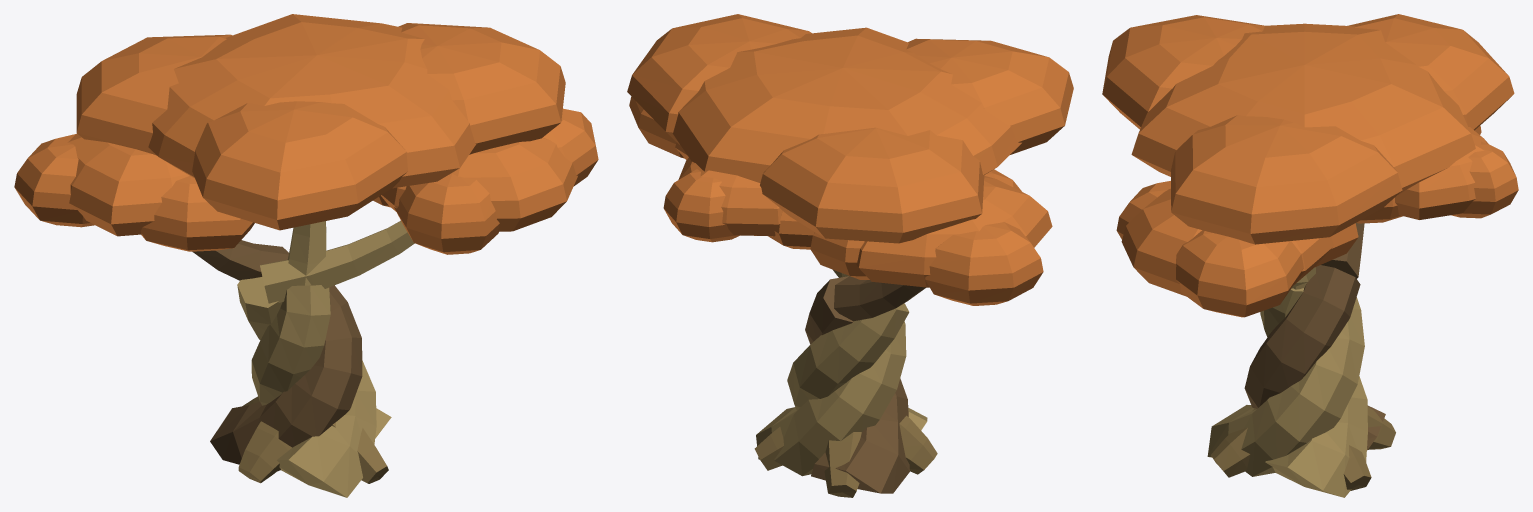
File: tree_gauranlen_b.obj
3 renders of one model, left to right at view 1: azimuth 30°, elevation 25°; view 2: azimuth 150°, elevation 25°; view 3: azimuth 270°, elevation 25°, orthographic. The views are drawn at different scales.
Visible parts, largest first — view 1: tree_gauranlen_b_16, tree_gauranlen_b_19, tree_gauranlen_b_17, tree_gauranlen_b_18, tree_gauranlen_b_1, tree_gauranlen_b_20, tree_gauranlen_b_24, tree_gauranlen_b_2, tree_gauranlen_b_0, tree_gauranlen_b_26, tree_gauranlen_b_23, tree_gauranlen_b_13 (+6 smaller); view 2: tree_gauranlen_b_16, tree_gauranlen_b_18, tree_gauranlen_b_19, tree_gauranlen_b_17, tree_gauranlen_b_0, tree_gauranlen_b_22, tree_gauranlen_b_20, tree_gauranlen_b_2, tree_gauranlen_b_1, tree_gauranlen_b_29, tree_gauranlen_b_28, tree_gauranlen_b_10 (+6 smaller); view 3: tree_gauranlen_b_16, tree_gauranlen_b_17, tree_gauranlen_b_2, tree_gauranlen_b_19, tree_gauranlen_b_27, tree_gauranlen_b_1, tree_gauranlen_b_18, tree_gauranlen_b_0, tree_gauranlen_b_24, tree_gauranlen_b_28, tree_gauranlen_b_29, tree_gauranlen_b_6 (+6 smaller).
Boxes of the visible parts, x1,y1,x2,y2 form: tree_gauranlen_b_16: [148, 14, 476, 188]; tree_gauranlen_b_19: [192, 101, 407, 230]; tree_gauranlen_b_17: [398, 23, 565, 154]; tree_gauranlen_b_18: [76, 34, 232, 155]; tree_gauranlen_b_1: [210, 285, 362, 471]; tree_gauranlen_b_20: [67, 134, 189, 236]; tree_gauranlen_b_24: [381, 137, 577, 231]; tree_gauranlen_b_2: [237, 277, 376, 497]; tree_gauranlen_b_0: [251, 285, 391, 438]; tree_gauranlen_b_26: [394, 173, 499, 254]; tree_gauranlen_b_23: [140, 176, 254, 251]; tree_gauranlen_b_13: [260, 220, 414, 303]; tree_gauranlen_b_16: [672, 27, 1021, 182]; tree_gauranlen_b_18: [760, 127, 984, 243]; tree_gauranlen_b_19: [906, 38, 1073, 154]; tree_gauranlen_b_17: [627, 14, 811, 144]; tree_gauranlen_b_0: [756, 321, 906, 476]; tree_gauranlen_b_22: [925, 222, 1043, 305]; tree_gauranlen_b_20: [856, 175, 1052, 287]; tree_gauranlen_b_2: [787, 303, 927, 430]; tree_gauranlen_b_1: [805, 276, 909, 493]; tree_gauranlen_b_29: [663, 169, 739, 242]; tree_gauranlen_b_28: [678, 158, 782, 236]; tree_gauranlen_b_10: [834, 276, 925, 321]; tree_gauranlen_b_16: [1131, 23, 1475, 194]; tree_gauranlen_b_17: [1171, 115, 1402, 244]; tree_gauranlen_b_2: [1207, 297, 1364, 476]; tree_gauranlen_b_19: [1102, 15, 1264, 129]; tree_gauranlen_b_27: [1175, 230, 1303, 317]; tree_gauranlen_b_1: [1244, 265, 1385, 450]; tree_gauranlen_b_18: [1347, 14, 1514, 130]; tree_gauranlen_b_0: [1260, 288, 1367, 497]; tree_gauranlen_b_24: [1121, 188, 1333, 296]; tree_gauranlen_b_28: [1395, 127, 1488, 219]; tree_gauranlen_b_29: [1451, 141, 1518, 218]; tree_gauranlen_b_6: [1211, 408, 1256, 477].
Bounding box in the file's own units: 1.19 × 0.93 × 0.8757.
